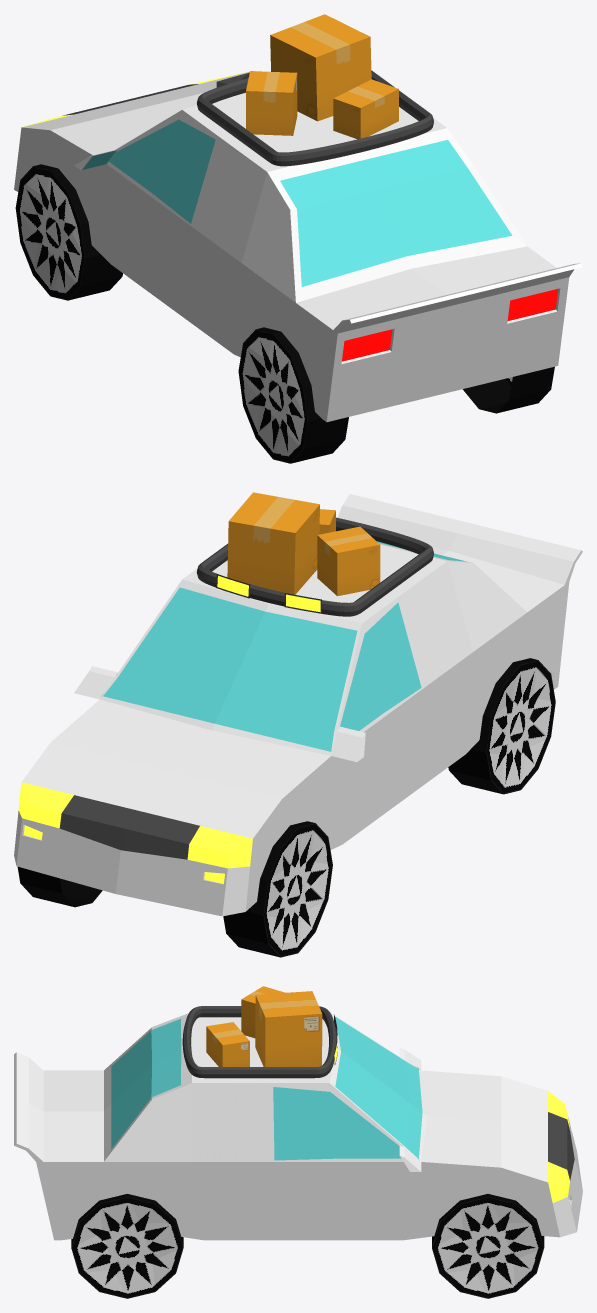
File: player_car.glb
3 renders of one model, top to bottom at view 1: azimuth 30°, elevation 25°; view 2: azimuth 150°, elevation 25°; view 3: azimuth 270°, elevation 25°, orthographic. The views are drawn at different scales.
Visible parts, largest first — view 1: Body, WheelBL, WheelFL, CargoBox1, CargoBase, CargoBox2, CargoBox3, WheelBR; view 2: Body, WheelFL, WheelBL, CargoBox1, CargoBase, CargoBox2, WheelFR; view 3: Body, WheelFR, WheelBR, CargoBox1, CargoBase, CargoBox3, CargoBox2.
Boxes of the visible parts, box(x1,y1,x2,y2) form: Body: box(14, 71, 582, 422); WheelBL: box(238, 327, 348, 463); WheelFL: box(15, 164, 122, 300); CargoBox1: box(270, 14, 371, 121); CargoBase: box(197, 70, 433, 166); CargoBox2: box(246, 71, 297, 135); CargoBox3: box(333, 79, 398, 139); WheelBR: box(462, 366, 554, 413); Body: box(14, 494, 582, 916); WheelFL: box(223, 821, 332, 957); WheelBL: box(448, 658, 555, 794); CargoBox1: box(227, 492, 319, 594); CargoBase: box(196, 517, 433, 616); CargoBox2: box(317, 526, 380, 596); WheelFR: box(17, 866, 102, 907); Body: box(14, 1012, 582, 1240); WheelFR: box(432, 1194, 544, 1298); WheelBR: box(71, 1194, 183, 1298); CargoBox1: box(255, 991, 322, 1066); CargoBase: box(182, 1006, 337, 1078); CargoBox3: box(206, 1022, 249, 1066); CargoBox2: box(241, 986, 285, 1038).
Size of the model in its own units: 2.2 by 2.35 by 4.73.
7 materials, 2 textured.
